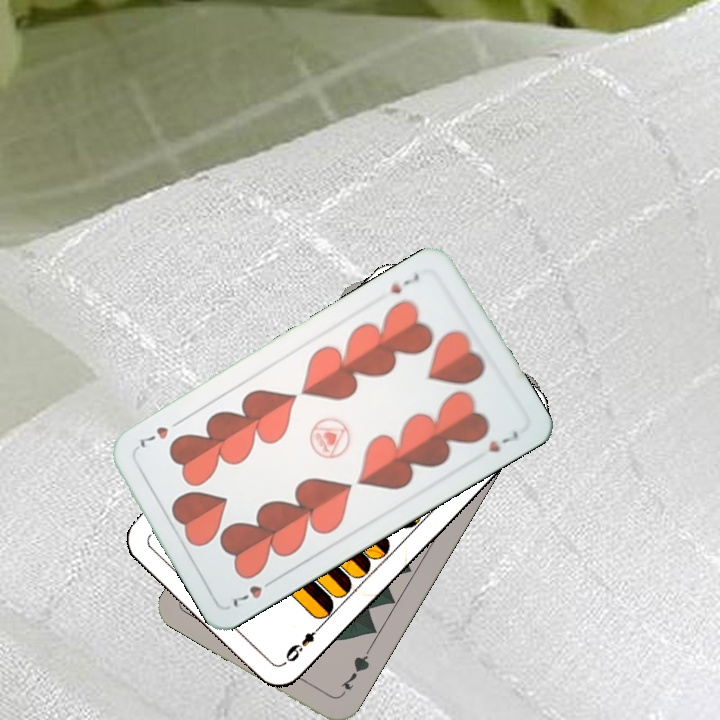E9: (281, 619, 326, 666)
G7: (336, 645, 373, 699)
H7: (228, 573, 279, 610), (386, 269, 422, 297)
